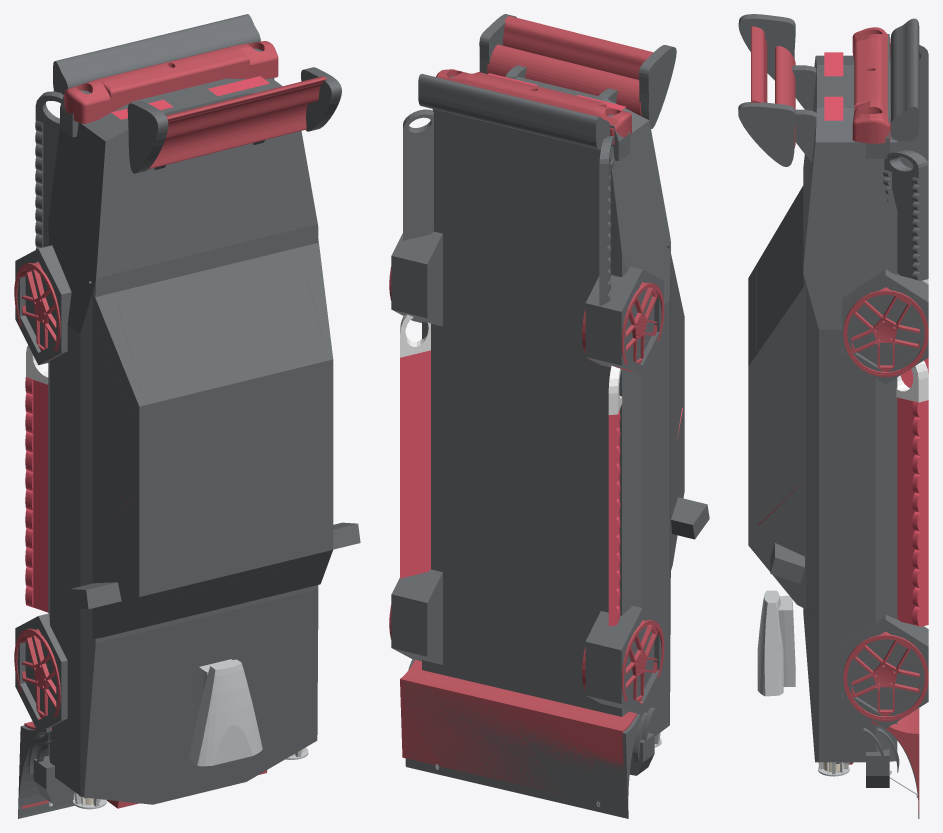
3 renders of one model, left to right at view 1: azimuth 30°, elevation 25°; view 2: azimuth 150°, elevation 25°; view 3: azimuth 270°, elevation 25°, orthographic. The views are drawn at different scales.
Parts seen in each view (by area): view 1: color_2829873, color_9771553, color_15277357, color_10988977; view 2: color_2829873, color_9771553, color_15277357, color_16448250; view 3: color_2829873, color_9771553, color_15277357, color_10988977, color_16448250.
Part boxes in pixels (x1,y1,x2,y2): color_2829873: [15, 14, 360, 818]; color_9771553: [14, 41, 326, 808]; color_15277357: [25, 76, 269, 612]; color_10988977: [73, 659, 308, 809]; color_2829873: [391, 14, 709, 818]; color_9771553: [389, 16, 664, 795]; color_15277357: [400, 73, 682, 626]; color_16448250: [400, 314, 622, 414]; color_2829873: [738, 14, 928, 818]; color_9771553: [751, 26, 928, 811]; color_15277357: [758, 52, 928, 626]; color_10988977: [757, 590, 849, 776]; color_16448250: [827, 279, 928, 773].
Size of the model in its own units: 31 by 83 by 20.07.
